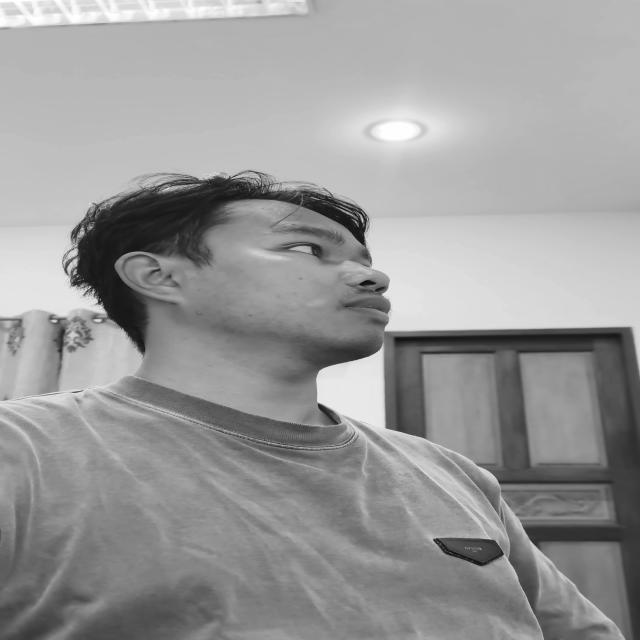ear: (114, 251, 181, 303)
